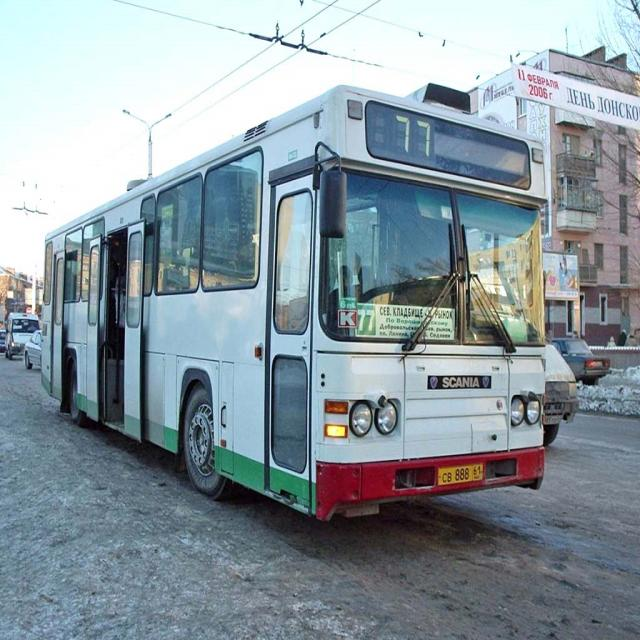number-of-bus: (387, 106, 437, 164), (358, 303, 377, 337)
